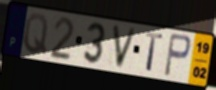2: (49, 15, 75, 62)
3: (83, 21, 107, 66)
P: (162, 31, 192, 79)
Q: (22, 12, 50, 57)
T: (144, 30, 164, 74)
V: (111, 23, 139, 71)
